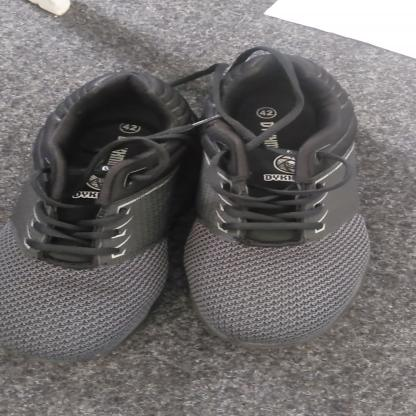safety-shoe: (1, 53, 370, 361)
